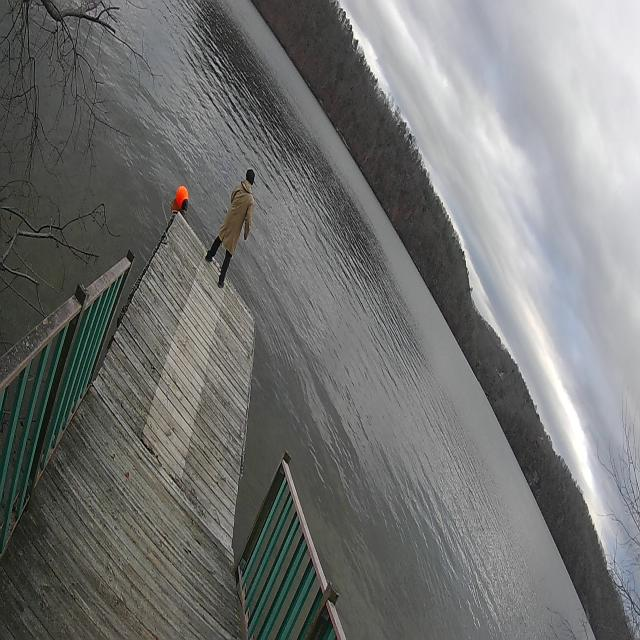Buoy: (175, 182, 189, 212)
